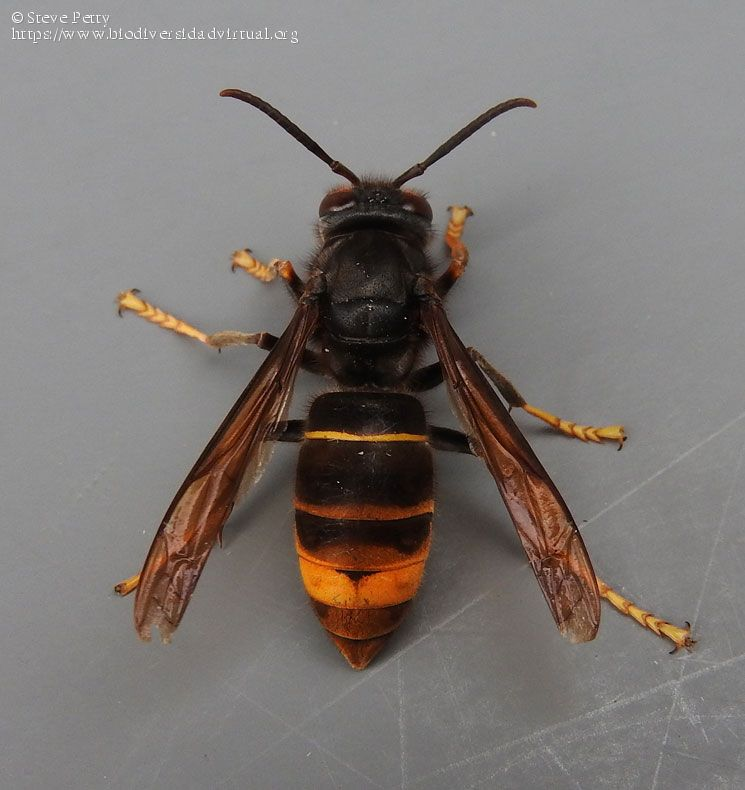hornet: (198, 116, 565, 699), (532, 416, 625, 460)
